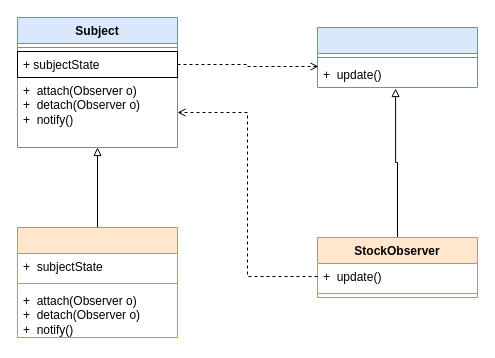
Some shapes in this 495 by 358 pixel diagram are drawn without their labels. The shapes that lost their labels are listed below. From the top down, each one's box as (x1, y1, x2, y2) in pixels, then its label:
(316, 26, 478, 88): Observer
(16, 226, 178, 338): ConcreteSubject
